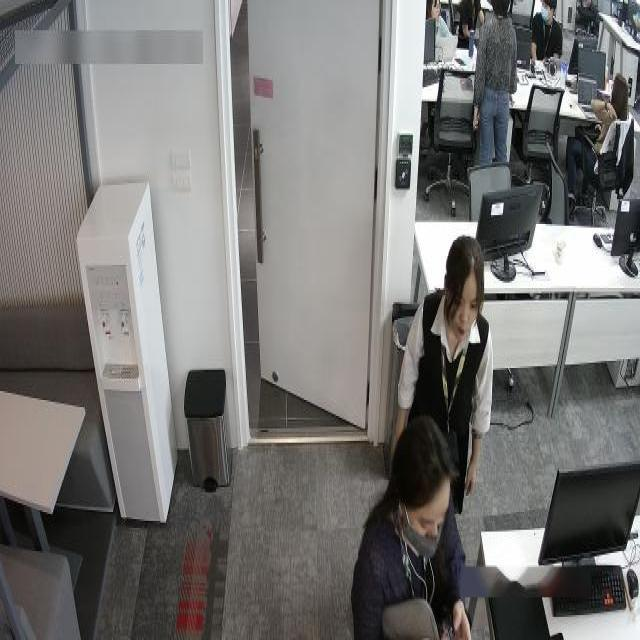bare_hand: (450, 588, 481, 640), (465, 448, 488, 501), (470, 100, 486, 132)
